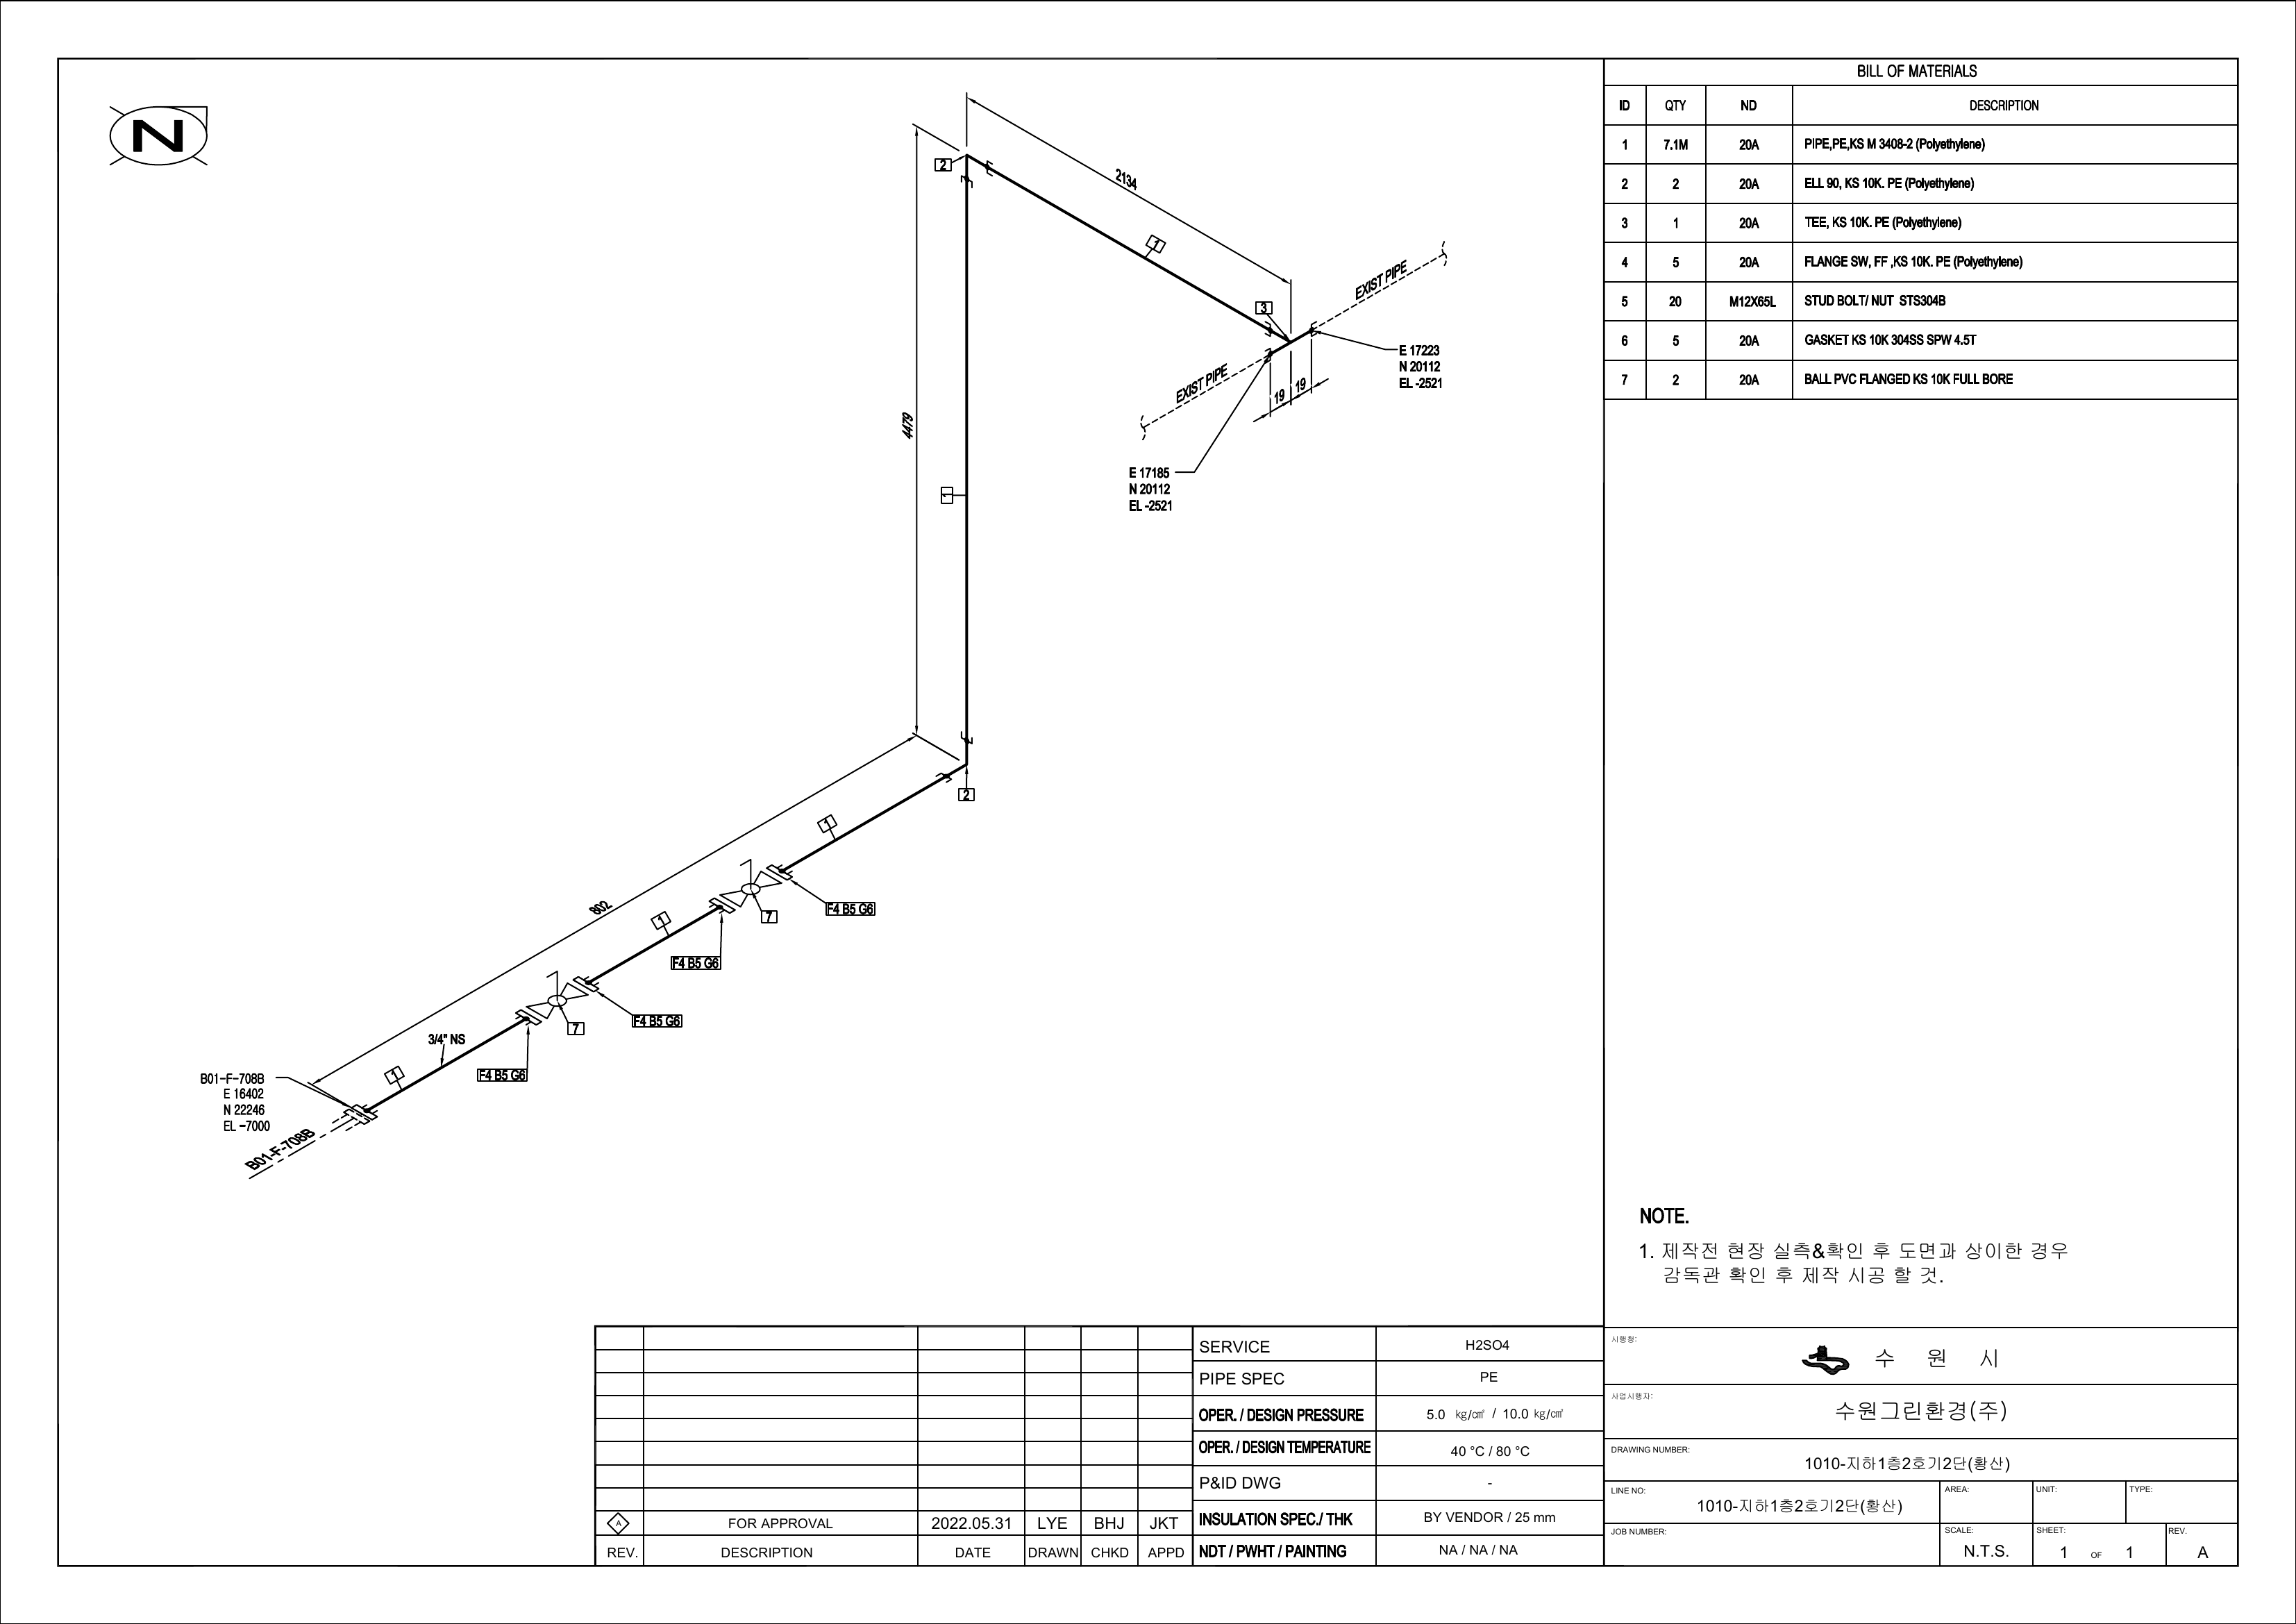table: (1600, 47, 2245, 404)
